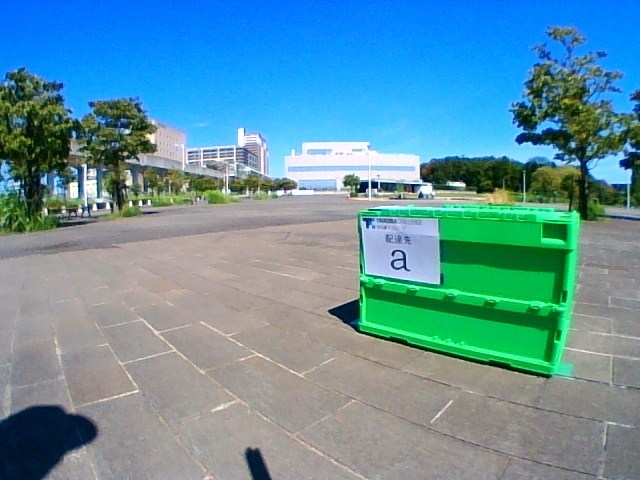green_box: (358, 204, 564, 333)
tag_a: (366, 218, 435, 276)
